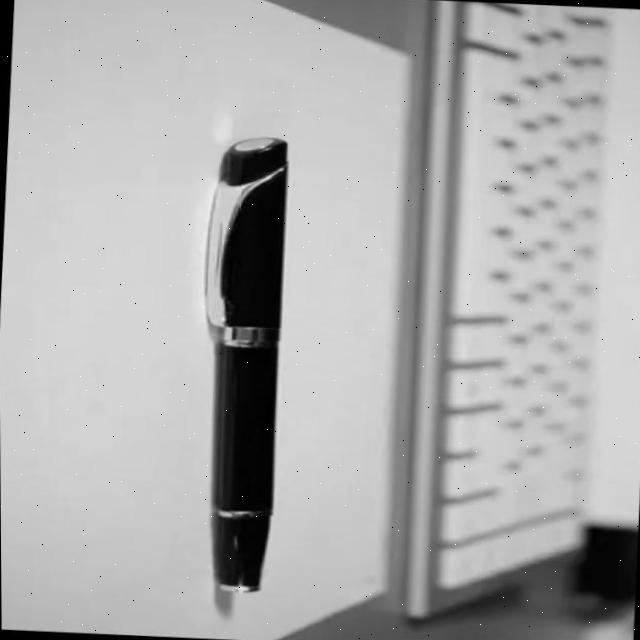pencil: (198, 132, 314, 601)
